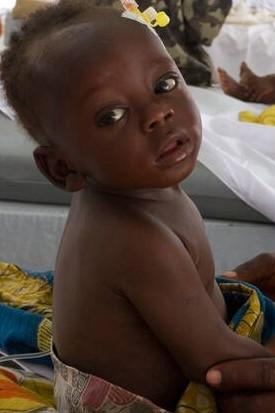Stunting: (17, 0, 222, 233)
